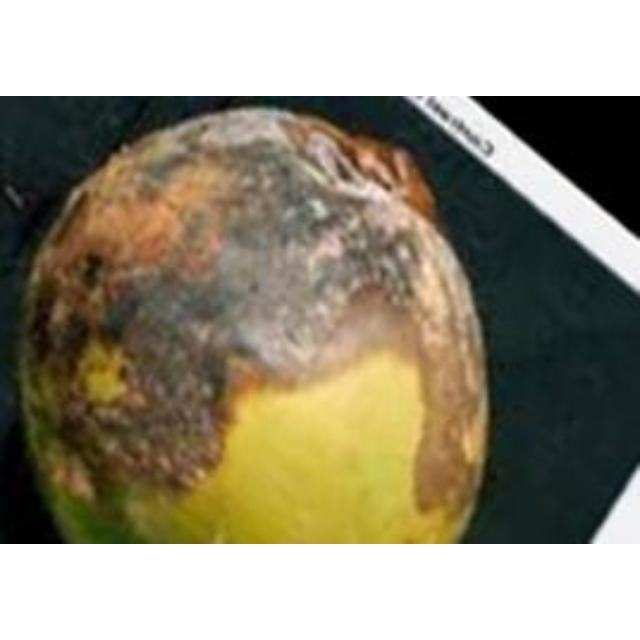damaged: (24, 108, 485, 543)
